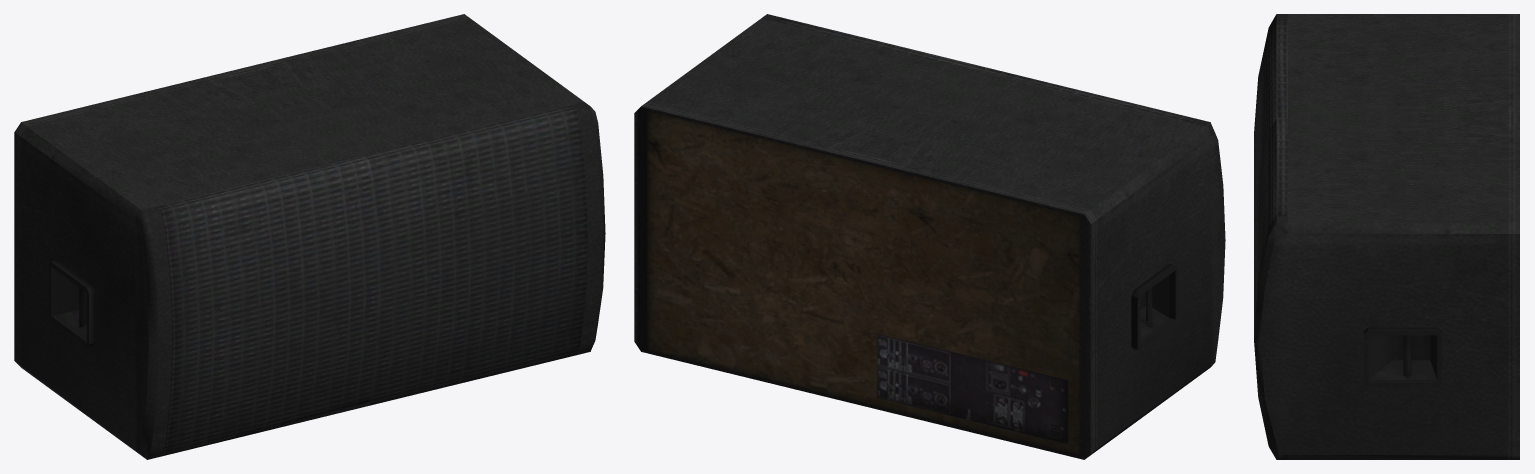
The model's file is speaker.glb.
3 renders of one model, left to right at view 1: azimuth 30°, elevation 25°; view 2: azimuth 150°, elevation 25°; view 3: azimuth 270°, elevation 25°, orthographic. The views are drawn at different scales.
Parts seen in each view (by area): view 1: Object_10; view 2: Object_10; view 3: Object_10.
Boxes of the visible parts, x1,y1,x2,y2 form: Object_10: [14, 14, 605, 459]; Object_10: [634, 14, 1225, 459]; Object_10: [1254, 14, 1519, 459].
Bounding box in the file's own units: 5.55 × 2.78 × 2.83.
Materials: 1 (1 with a texture image).
